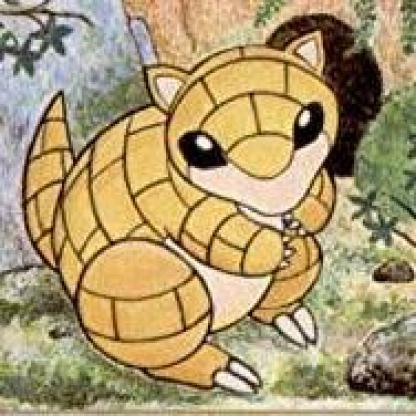Sandshrew: (22, 39, 356, 396)
